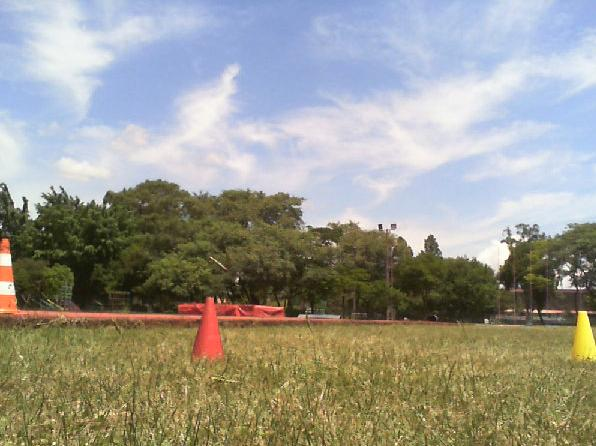0 cone: (190, 298, 224, 362), (0, 239, 19, 313), (570, 311, 596, 361)
